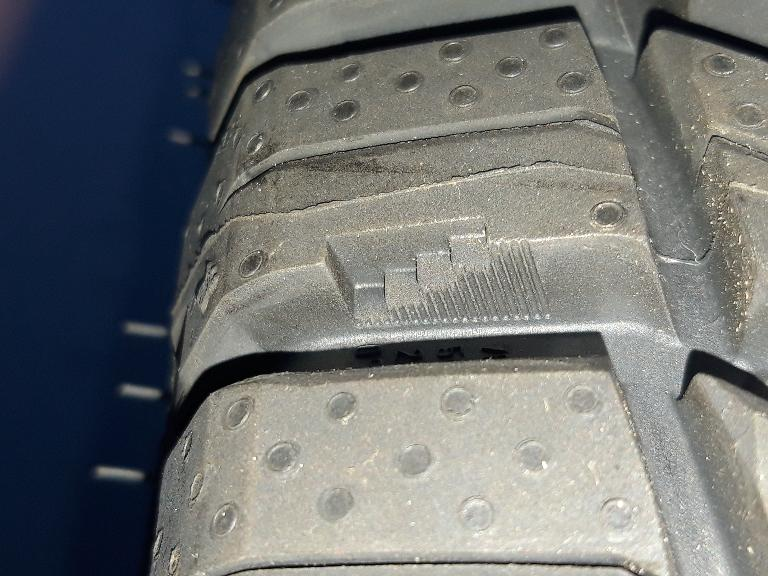temoin:100: (318, 211, 563, 339)
